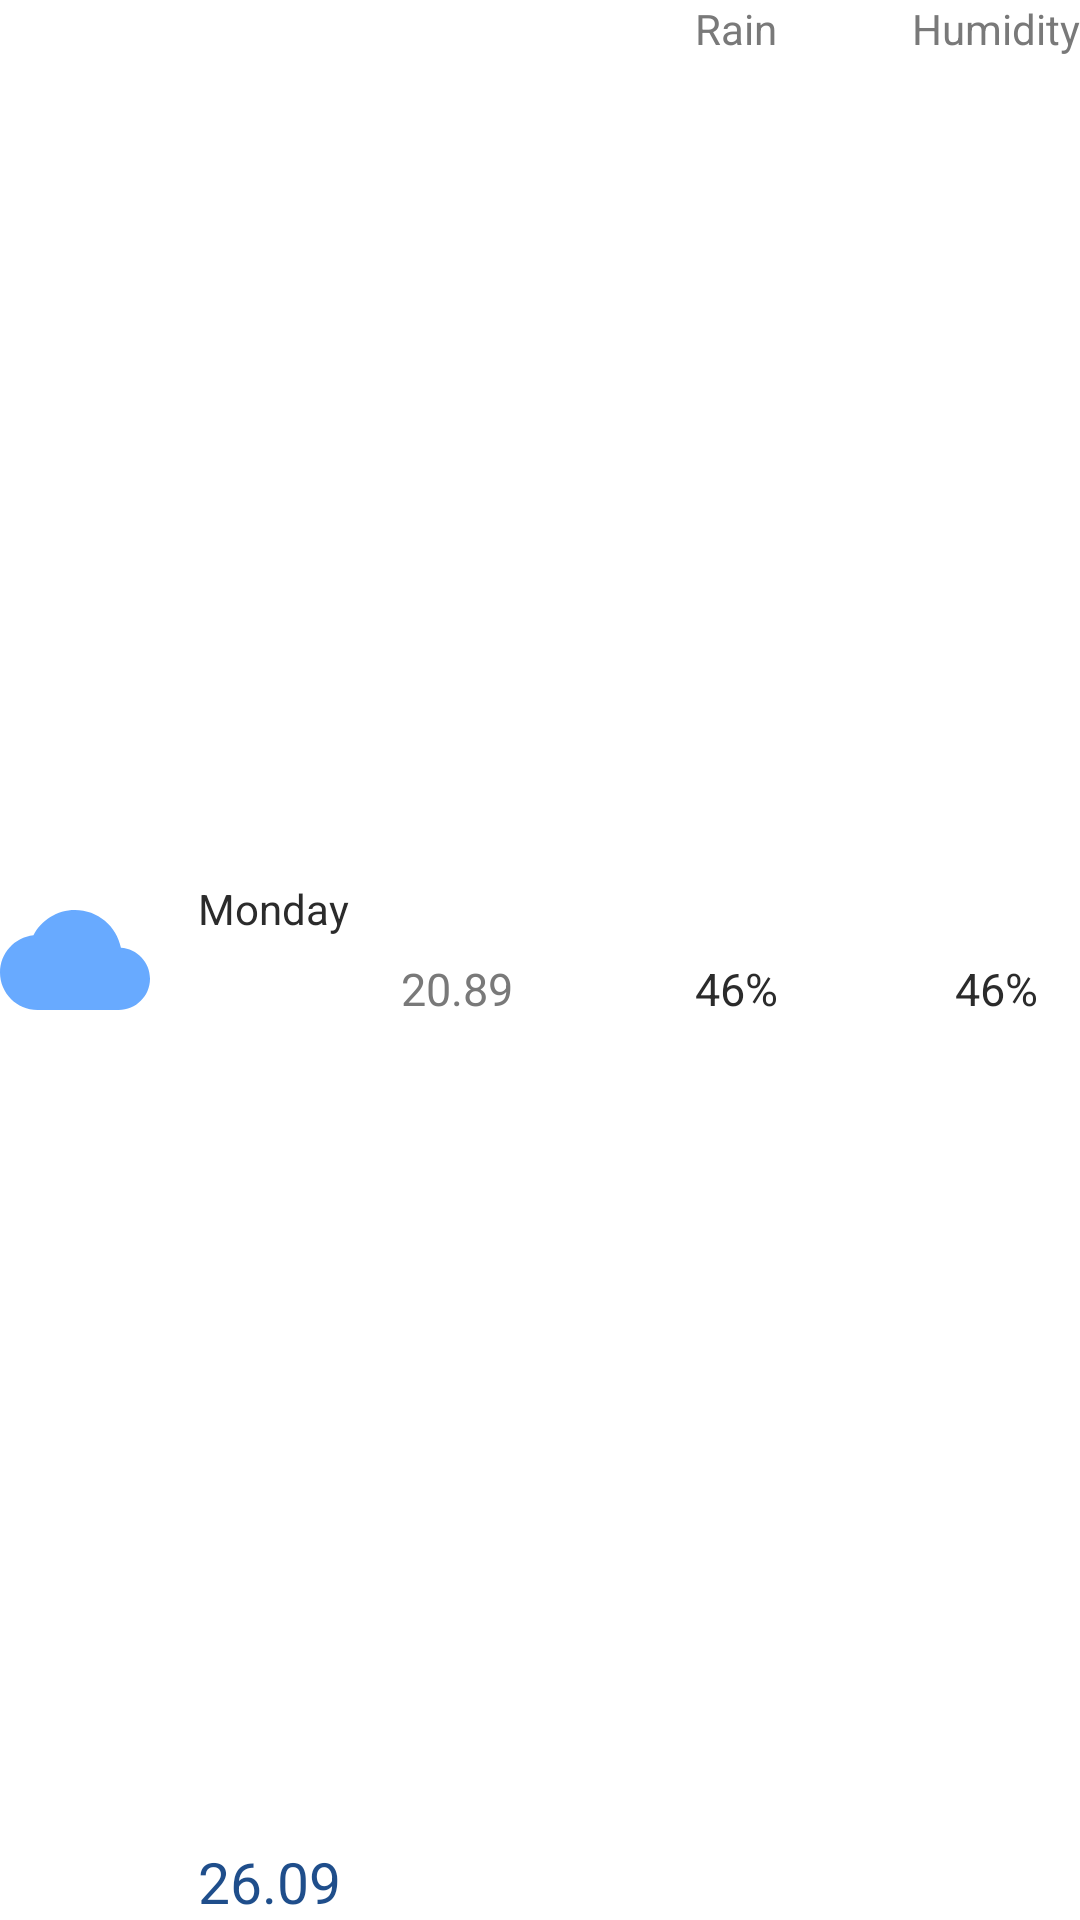

Icon bounding boxes for this 1080 × 1920 phone screenshot, format [x1=x1, y1=y1, x2=x2, y2=y2]:
cloud: [x1=0, y1=910, x2=150, y2=1010]
